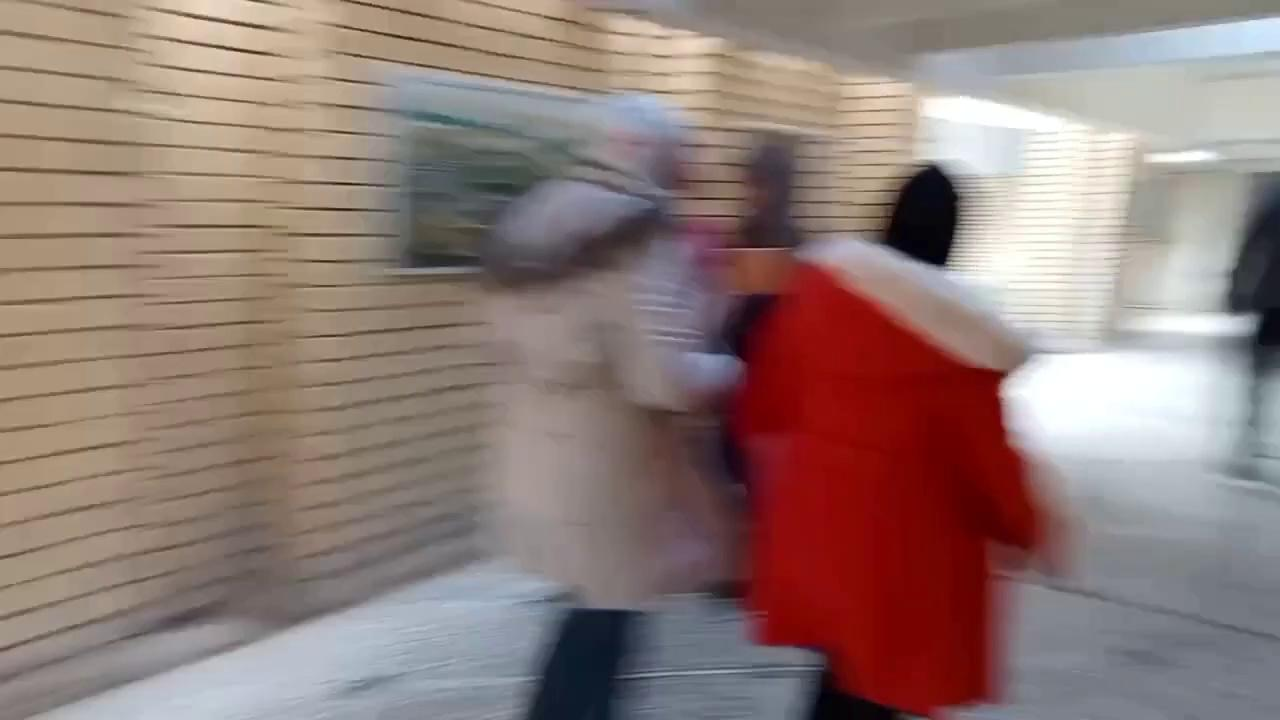person: (714, 148, 1048, 718), (475, 92, 744, 718), (1224, 172, 1279, 483)
